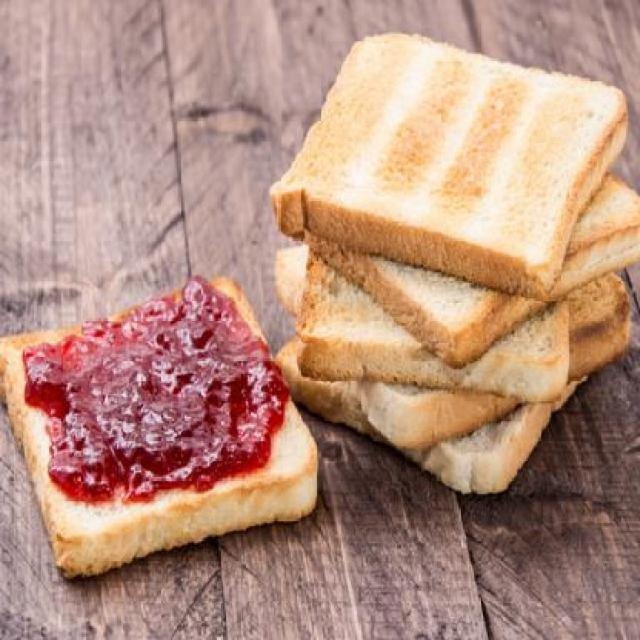Spread: (19, 275, 292, 508)
